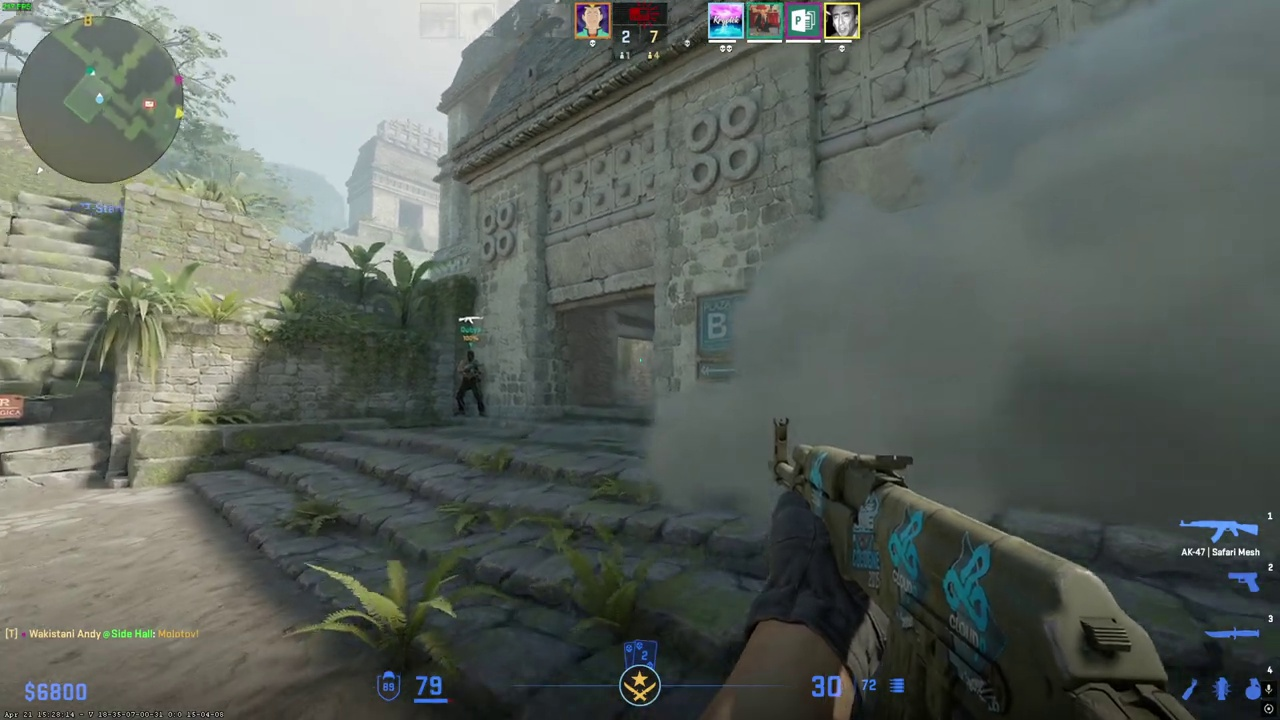Terrorist: (454, 350, 486, 417)
